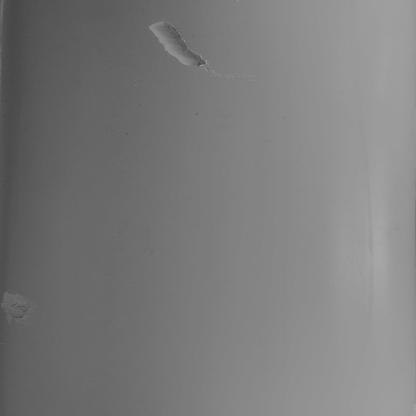sunshang: (146, 22, 215, 75), (1, 294, 27, 325)
